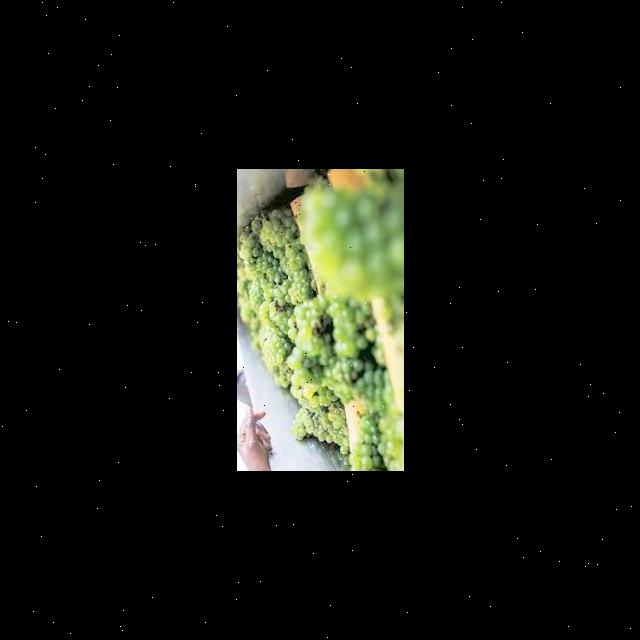grape: (236, 205, 402, 470)
